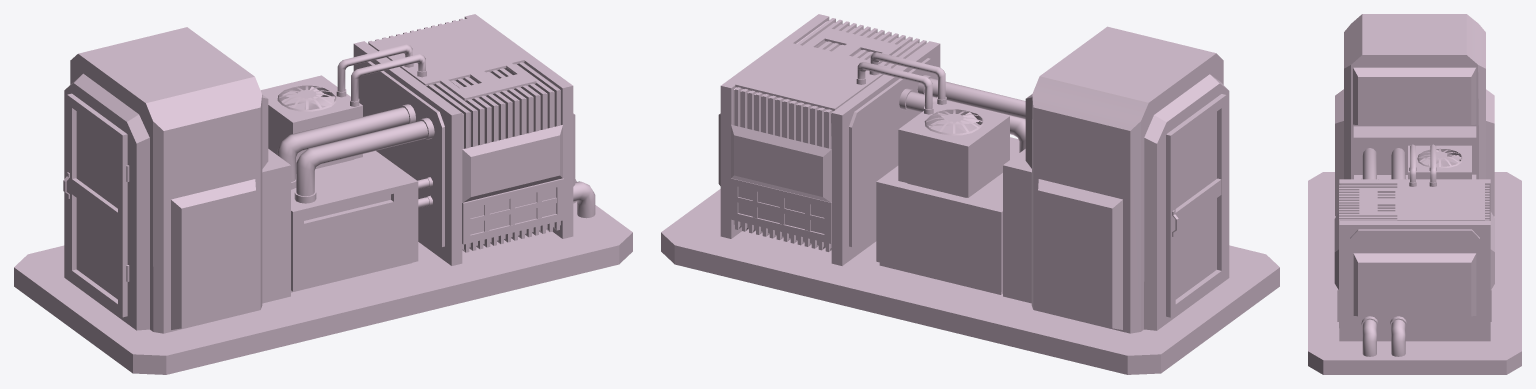
File: generator5.fbx
3 renders of one model, left to right at view 1: azimuth 30°, elevation 25°; view 2: azimuth 150°, elevation 25°; view 3: azimuth 270°, elevation 25°, orthographic. The views are drawn at different scales.
Parts seen in each view (by area): view 1: Generator01_Mesh; view 2: Generator01_Mesh; view 3: Generator01_Mesh.
Part boxes in pixels (x1=…): Generator01_Mesh: x1=14, y1=14, x2=632, y2=374; Generator01_Mesh: x1=661, y1=14, x2=1279, y2=374; Generator01_Mesh: x1=1308, y1=14, x2=1521, y2=374.
Size of the model in its own units: 624 by 289 by 300.
